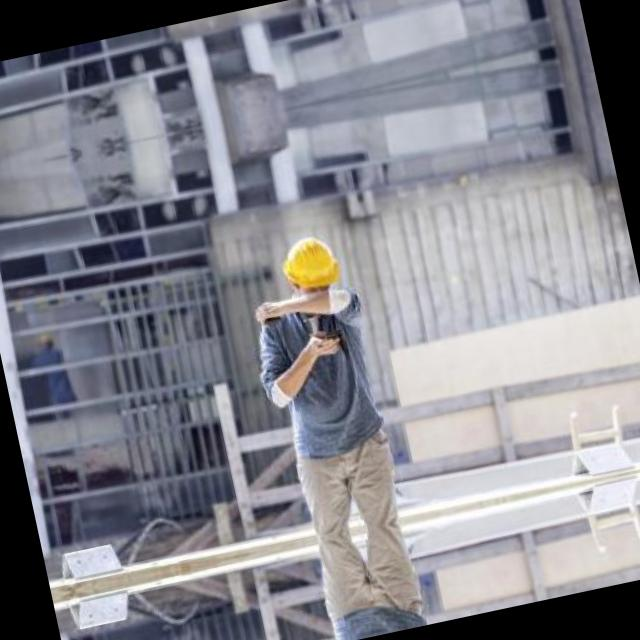helmet: (267, 226, 355, 314)
